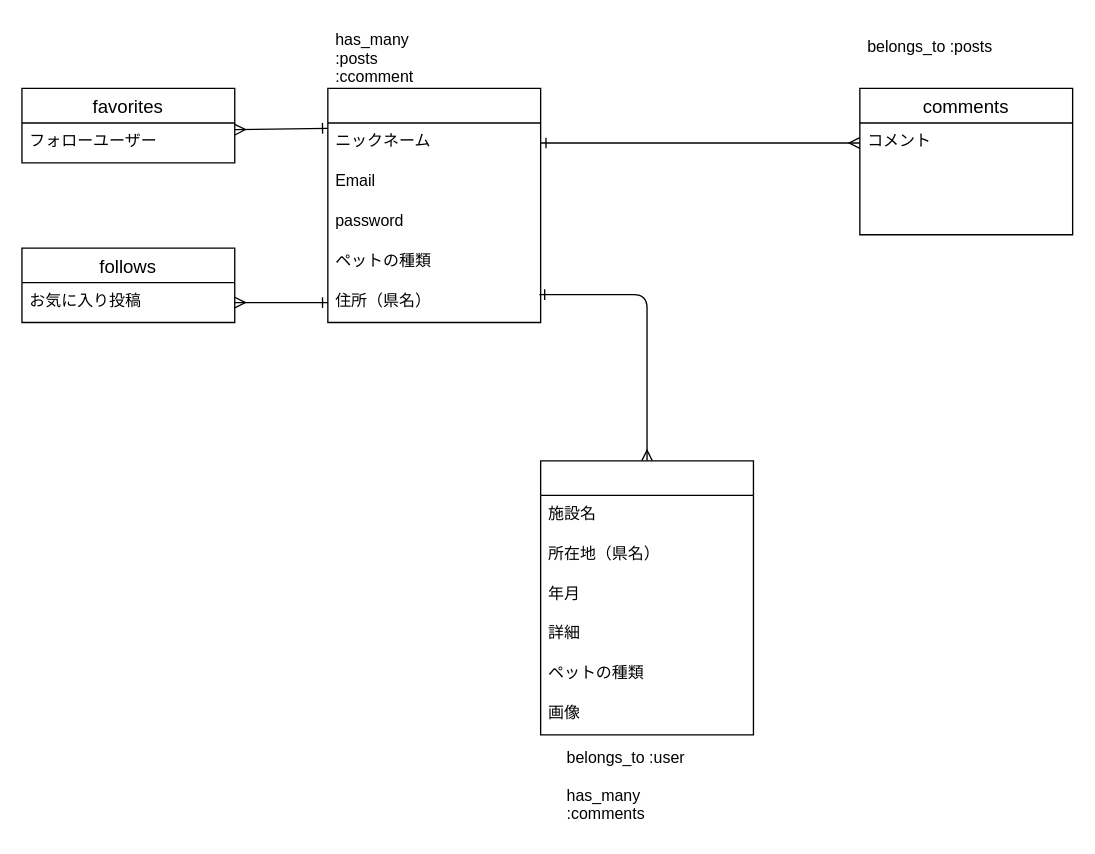
This 1095x854 diagram has some shape labels left out. Each missing label, with the box of its shape:
posts: (539, 460, 753, 735)
user: (327, 87, 541, 323)
